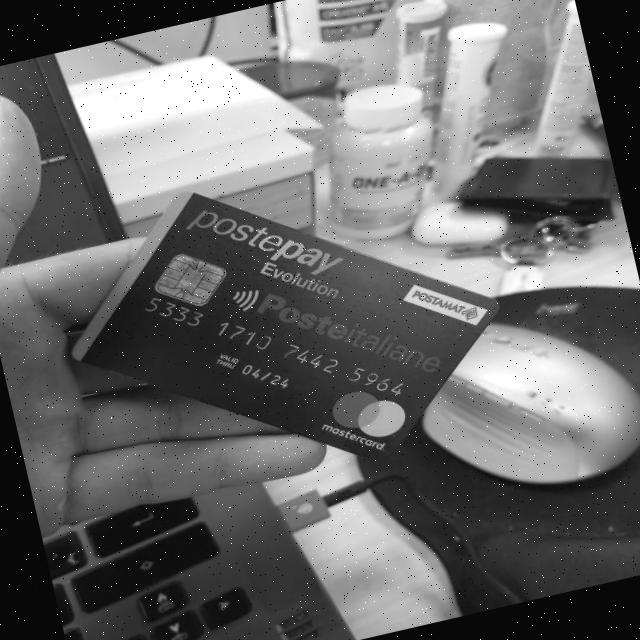card: (68, 192, 505, 467)
